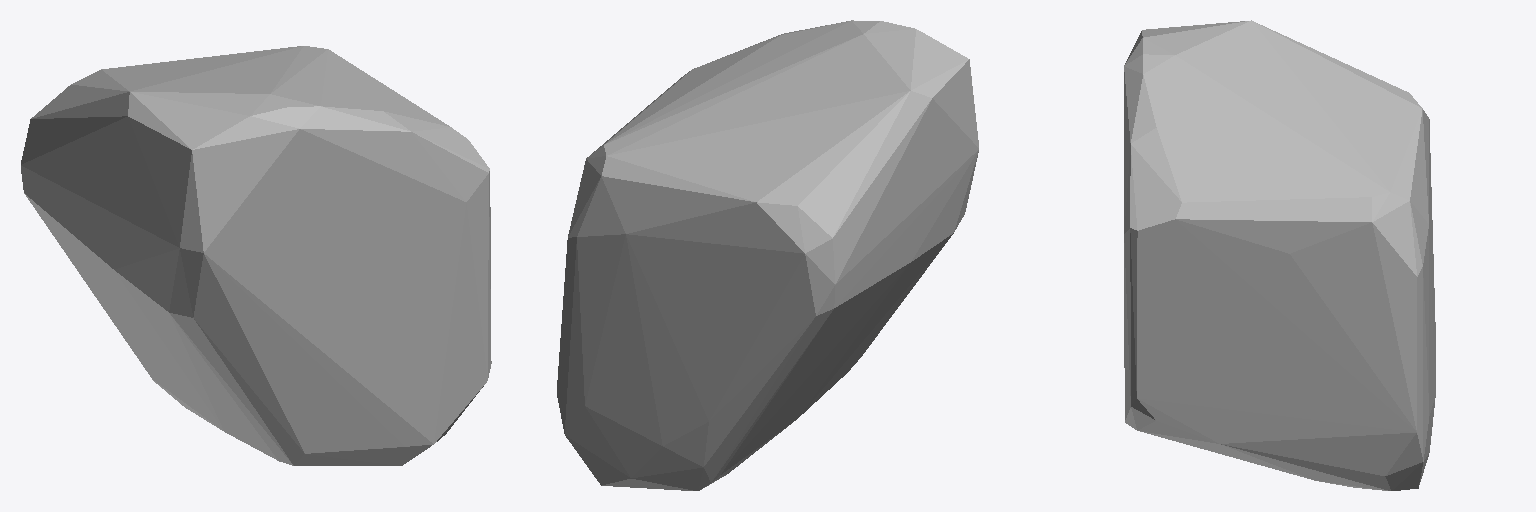
URDF robot description (root):
<robot name="root">
  <link name="link_rock29_convex_piece_0">
    <inertial>
      <origin rpy="0 0 0" xyz="0 0 0"/>
      <mass value="1.72E+06"/>
      <inertia ixx="4.73E+09" ixy="7.18E+08" ixz="-1.21E+09" iyy="3.71E+09" iyz="-1.66E+08" izz="3.79E+09"/>
    </inertial>
    <visual>
      <origin rpy="0 0 0" xyz="0 0 0"/>
      <geometry>
        <mesh filename="rock29_convex_piece_0.obj" scale="1.0000E+00 1.0000E+00 1.0000E+00"/>
      </geometry>
      <material name="">
        <color rgba="7.50E-01 7.50E-01 7.50E-01 1"/>
      </material>
    </visual>
    <collision>
      <origin rpy="0 0 0" xyz="0 0 0"/>
      <geometry>
        <mesh filename="rock29_convex_piece_0.obj" scale="1.0000E+00 1.0000E+00 1.0000E+00"/>
      </geometry>
    </collision>
  </link>
</robot>

--- What the picture shows (computed from the rendered views, not written in the file) ---
Views: 3 orthographic renders of the robot side by side, from view 1: azimuth 30°, elevation 25°; view 2: azimuth 150°, elevation 25°; view 3: azimuth 270°, elevation 25°.
Model root with 1 links and 0 joints (none), rooted at link_rock29_convex_piece_0, posed every joint at zero.
Visible links, largest first — view 1: link_rock29_convex_piece_0; view 2: link_rock29_convex_piece_0; view 3: link_rock29_convex_piece_0.
Boxes of the visible links, <box> form: link_rock29_convex_piece_0: <box>21,46,491,465</box>; link_rock29_convex_piece_0: <box>557,20,978,490</box>; link_rock29_convex_piece_0: <box>1124,20,1435,490</box>.
Size in the robot's own frame: 126 by 129 by 170 metres.
Meshes: 1 distinct files referenced, 1 mesh visuals loaded (1 OBJ).
